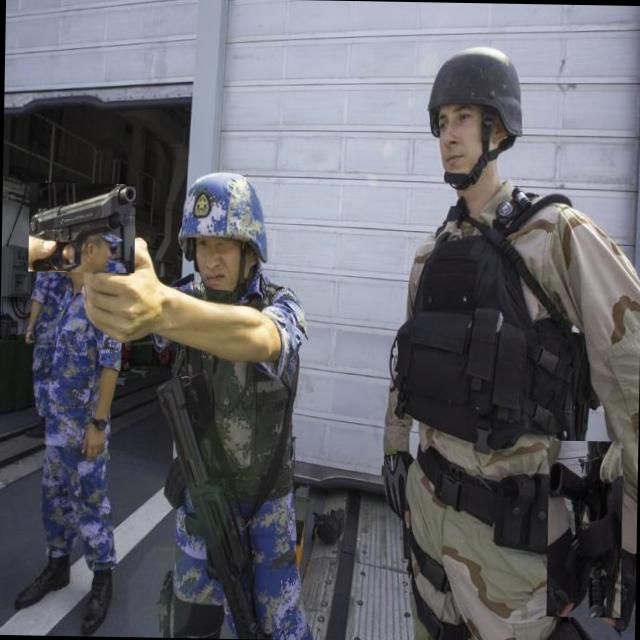Gun: (158, 373, 264, 638), (548, 441, 621, 617), (29, 184, 135, 271)
